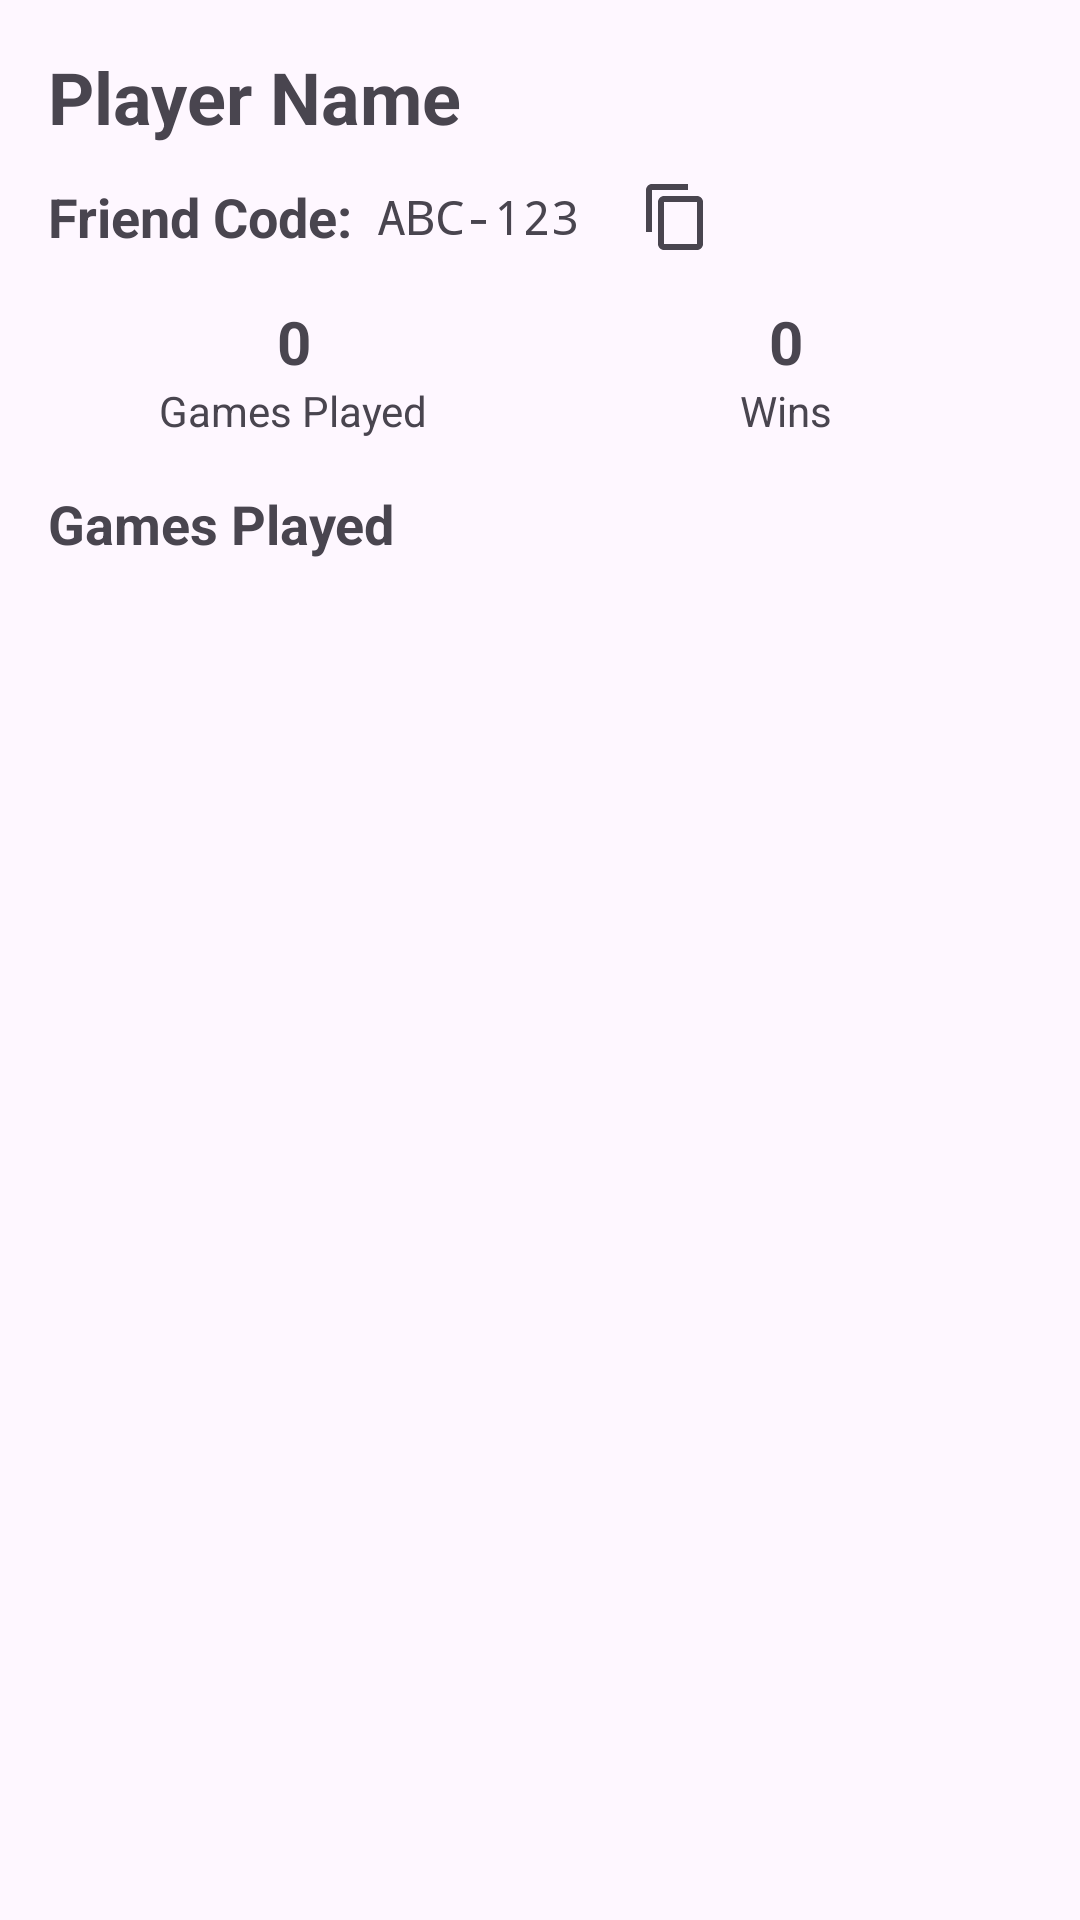

Icons on this 1080 x 1920 Android screen, each with its box as (x1,y1,x2,y2):
Copy Friend Code: (646,184,703,250)
